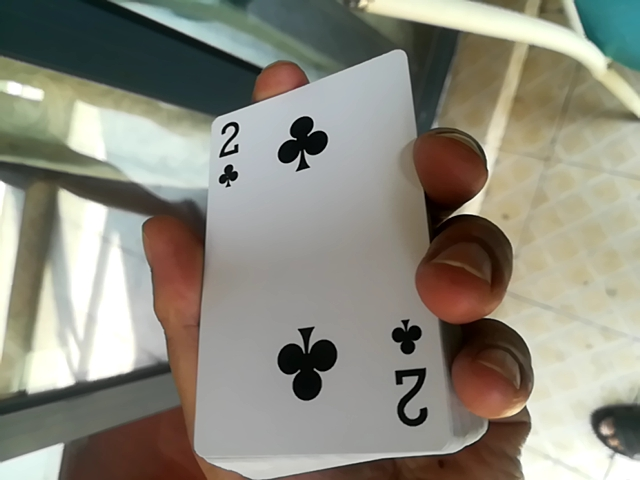mh 2: (178, 45, 446, 461)
